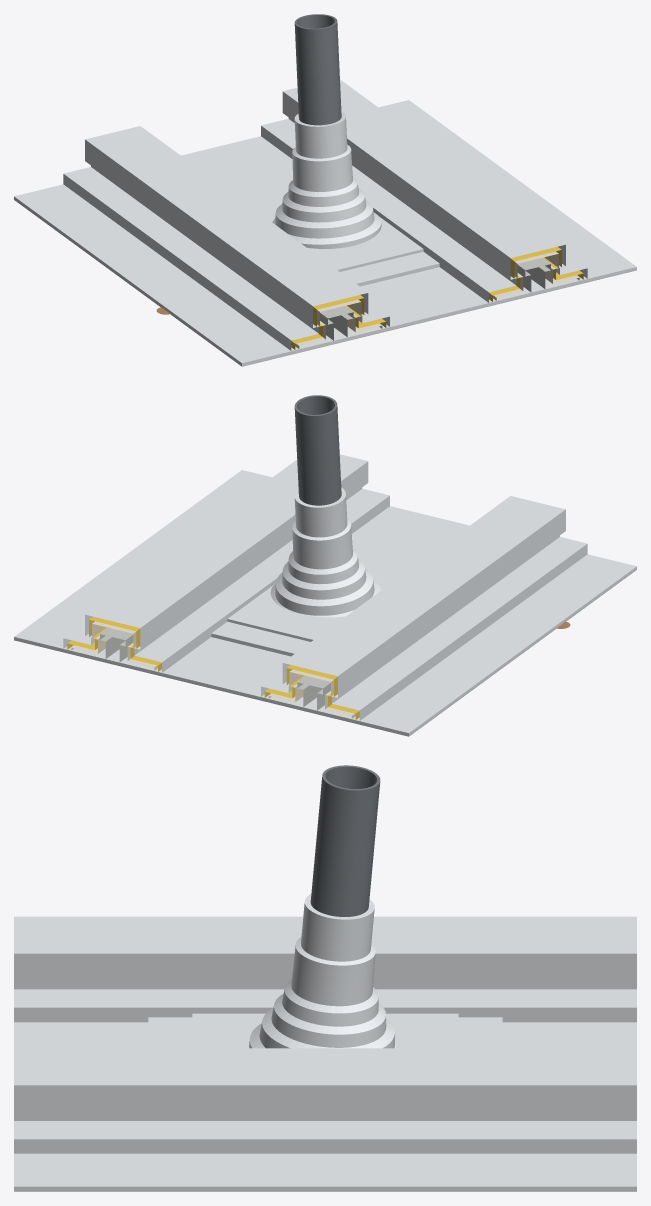
The model's file is pipe-boot-sseam-1in12-P-9-MP.glb.
The picture shows the model from 3 angles, top to bottom: view 1: azimuth 30°, elevation 25°; view 2: azimuth 150°, elevation 25°; view 3: azimuth 270°, elevation 25°; orthographic projection. The views are drawn at different scales.
Visible parts, largest first — view 1: topcoat__topcoat_field_all, topcoat__topcoat_rib_0, topcoat__topcoat_apron, topcoat__topcoat_rib_1, topcoat__topcoat_boot, existing__pipe, topcoat__topcoat_plate, flex__flex_rib_0, flex__flex_rib_1, existing__rib_1, existing__rib_0, primer__primer_rib_1_dn (+2 smaller); view 2: topcoat__topcoat_field_all, topcoat__topcoat_rib_0, topcoat__topcoat_apron, topcoat__topcoat_rib_1, topcoat__topcoat_boot, existing__pipe, topcoat__topcoat_plate, flex__flex_rib_0, flex__flex_rib_1, existing__rib_1, existing__rib_0, primer__primer_rib_1_up (+2 smaller); view 3: topcoat__topcoat_rib_1, topcoat__topcoat_rib_0, topcoat__topcoat_field_all, topcoat__topcoat_apron, topcoat__topcoat_boot, existing__pipe, topcoat__topcoat_plate, existing__panel.
Boxes of the visible parts, left/top/right/bottom form: topcoat__topcoat_field_all: left=14, top=100, right=636, bottom=366; topcoat__topcoat_rib_0: left=63, top=126, right=389, bottom=350; topcoat__topcoat_apron: left=112, top=114, right=515, bottom=308; topcoat__topcoat_rib_1: left=261, top=79, right=587, bottom=302; topcoat__topcoat_boot: left=272, top=111, right=381, bottom=248; existing__pipe: left=294, top=14, right=341, bottom=125; topcoat__topcoat_plate: left=240, top=187, right=423, bottom=271; flex__flex_rib_0: left=291, top=295, right=386, bottom=349; flex__flex_rib_1: left=489, top=246, right=583, bottom=301; existing__rib_1: left=517, top=258, right=550, bottom=292; existing__rib_0: left=320, top=306, right=353, bottom=340; primer__primer_rib_1_dn: left=493, top=251, right=579, bottom=300; topcoat__topcoat_field_all: left=14, top=470, right=636, bottom=736; topcoat__topcoat_rib_0: left=261, top=496, right=587, bottom=720; topcoat__topcoat_apron: left=134, top=484, right=538, bottom=680; topcoat__topcoat_rib_1: left=63, top=454, right=389, bottom=672; topcoat__topcoat_boot: left=270, top=487, right=381, bottom=617; existing__pipe: left=294, top=395, right=341, bottom=505; topcoat__topcoat_plate: left=227, top=555, right=410, bottom=641; flex__flex_rib_0: left=264, top=665, right=359, bottom=719; flex__flex_rib_1: left=67, top=616, right=161, bottom=671; existing__rib_1: left=100, top=627, right=133, bottom=662; existing__rib_0: left=297, top=676, right=330, bottom=710; primer__primer_rib_1_up: left=71, top=621, right=157, bottom=670; topcoat__topcoat_rib_1: left=14, top=1048, right=636, bottom=1153; topcoat__topcoat_rib_0: left=14, top=916, right=636, bottom=1022; topcoat__topcoat_field_all: left=14, top=1022, right=636, bottom=1190; topcoat__topcoat_apron: left=148, top=916, right=502, bottom=1148; topcoat__topcoat_boot: left=249, top=894, right=395, bottom=1048; existing__pipe: left=310, top=765, right=380, bottom=916; topcoat__topcoat_plate: left=192, top=1013, right=458, bottom=1048; existing__panel: left=14, top=1191, right=636, bottom=1191.
Bounding box in the file's own units: 1.24 × 0.6135 × 1.22.
